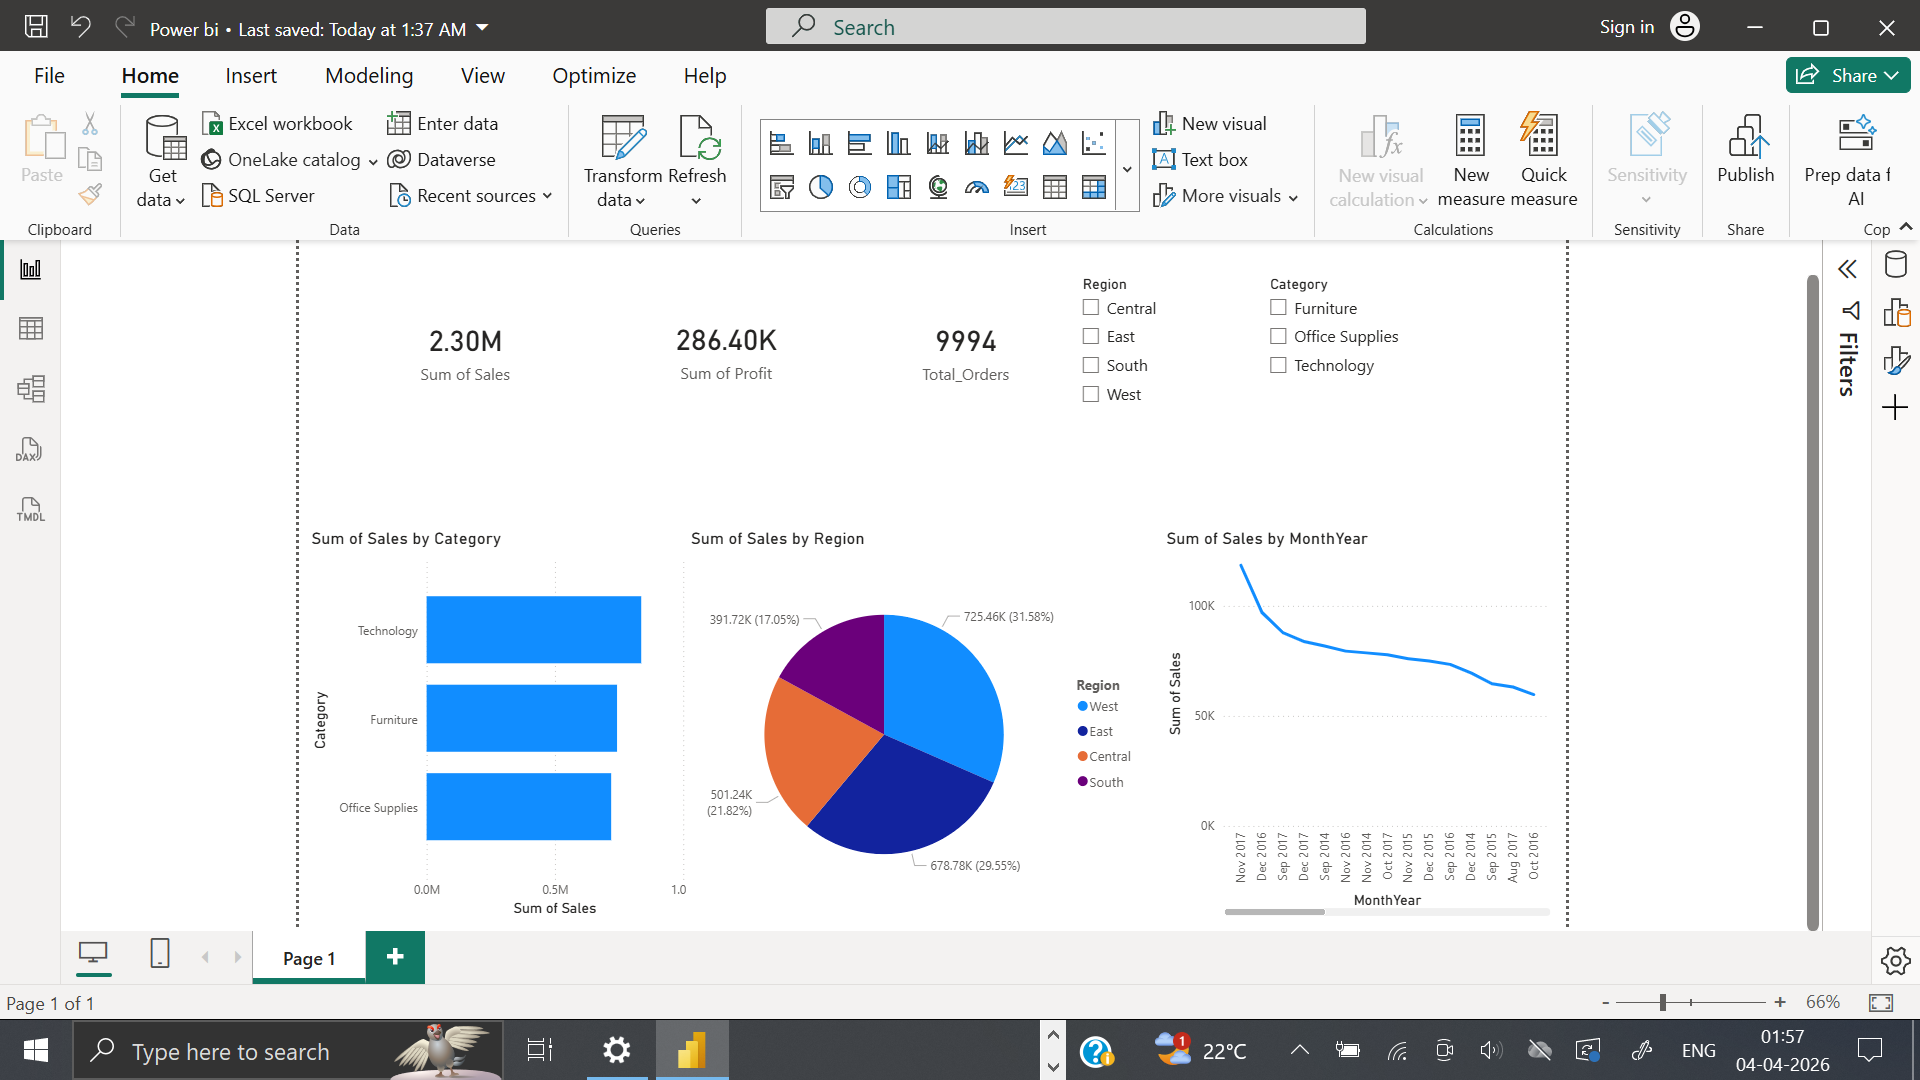

This screenshot's page, from the dashboard's own definition file:
{"tool":"powerbi","page":{"name":"Page 1","canvas":[1280,720],"ordinal":0},"visuals":[{"type":"card","fields":{"Values":["Sum(Superstore.Sales)"]},"box":[36.6,52.5,262.5,159.1],"z":0},{"type":"card","fields":{"Values":["Sum(Superstore.Profit)"]},"box":[299,62,265.6,138.4],"z":1},{"type":"card","fields":{"Values":["Superstore.Total_Orders"]},"box":[553.5,84.3,240.2,95.4],"z":2},{"type":"clusteredBarChart","fields":{"Category":["Superstore.Category"],"Y":["Sum(Superstore.Sales)"]},"box":[8,313.4,399.2,396.1],"z":3},{"type":"pieChart","fields":{"Category":["Superstore.Region"],"Y":["Sum(Superstore.Sales)"]},"box":[391.3,313.4,464.5,396.1],"z":4},{"type":"lineChart","fields":{"Category":["Superstore.MonthYear"],"Y":["Sum(Superstore.Sales)"]},"box":[871.7,313.4,397.7,396.1],"z":5},{"type":"slicer","fields":{"Values":["Superstore.Region"]},"box":[779.4,52.5,330.8,151.1],"z":7},{"type":"slicer","fields":{"Values":["Superstore.Category"]},"box":[968.7,52.5,283.1,143.2],"z":8}]}

Visuals, with their boxes in screenshot pixels (x1, y1, x2, y2):
card - Sum(Superstore.Sales): [x1=0, y1=43, x2=367, y2=278]
card - Sum(Superstore.Profit): [x1=367, y1=57, x2=760, y2=261]
card - Superstore.Total_Orders: [x1=744, y1=90, x2=1099, y2=231]
clusteredBarChart - Superstore.Category x Sum(Superstore.Sales): [x1=0, y1=429, x2=527, y2=1015]
pieChart - Superstore.Region x Sum(Superstore.Sales): [x1=504, y1=429, x2=1191, y2=1015]
lineChart - Superstore.MonthYear x Sum(Superstore.Sales): [x1=1214, y1=429, x2=1803, y2=1015]
slicer - Superstore.Region: [x1=1078, y1=43, x2=1567, y2=266]
slicer - Superstore.Category: [x1=1358, y1=43, x2=1777, y2=254]
